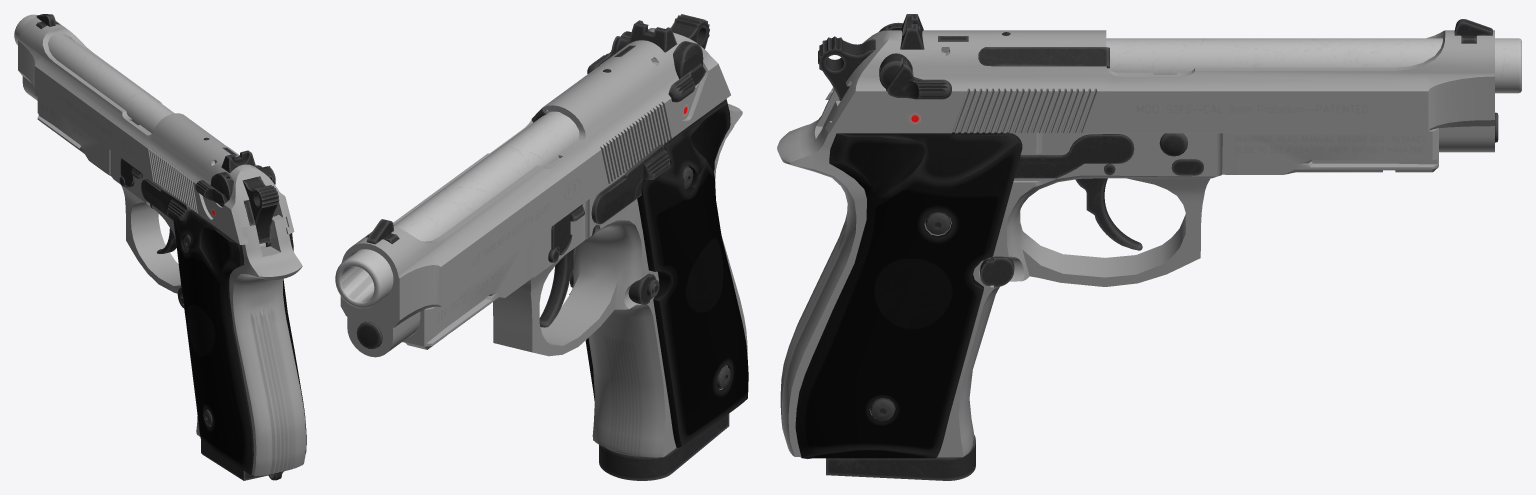
The model's file is beretta_92fs_-_game_ready_-_free.glb.
3 renders of one model, left to right at view 1: azimuth 30°, elevation 25°; view 2: azimuth 150°, elevation 25°; view 3: azimuth 270°, elevation 25°, orthographic. The views are drawn at different scales.
Parts seen in each view (by area): view 1: body.003, receiver.003, Circle.008, Cylinder.054, Hammer.003, Cube.035, Cylinder.058, Magazine.001, Cube.031, Circle.007, Cube.036; view 2: receiver.003, body.003, Circle.008, Cylinder.054, Magazine.001, Cube.035, Cylinder.058, Plane.003, Hammer.003, Cube.031, Cube.036, Cylinder.055 (+2 smaller); view 3: receiver.003, Circle.007, body.003, Cylinder.054, Magazine.001, Cube.039, Cube.033, Hammer.003, Plane.003, Cylinder.059, Cylinder.067.
Part boxes in pixels (left/top/right/bottom): body.003: left=37, top=97, right=305, bottom=476; receiver.003: left=18, top=17, right=294, bottom=244; Circle.008: left=173, top=210, right=253, bottom=474; Cylinder.054: left=14, top=14, right=173, bottom=133; Hammer.003: left=242, top=177, right=279, bottom=248; Cube.035: left=141, top=178, right=190, bottom=220; Cylinder.058: left=195, top=172, right=233, bottom=206; Magazine.001: left=201, top=440, right=292, bottom=480; Cube.031: left=221, top=150, right=255, bottom=172; Circle.007: left=283, top=233, right=306, bottom=453; Cube.036: left=120, top=158, right=142, bottom=187; receiver.003: left=340, top=28, right=730, bottom=357; body.003: left=402, top=104, right=747, bottom=457; Circle.008: left=637, top=99, right=748, bottom=447; Cylinder.054: left=335, top=111, right=579, bottom=308; Magazine.001: left=599, top=413, right=729, bottom=480; Cube.035: left=591, top=144, right=670, bottom=224; Cylinder.058: left=668, top=41, right=706, bottom=102; Plane.003: left=539, top=248, right=574, bottom=327; Hammer.003: left=671, top=14, right=709, bottom=49; Cube.031: left=628, top=20, right=676, bottom=52; Cube.036: left=551, top=204, right=584, bottom=255; Cylinder.055: left=356, top=321, right=382, bottom=348; receiver.003: left=825, top=30, right=1494, bottom=152; Circle.007: left=795, top=132, right=1022, bottom=458; body.003: left=777, top=89, right=1438, bottom=457; Cylinder.054: left=1106, top=38, right=1521, bottom=93; Magazine.001: left=826, top=434, right=975, bottom=480; Cube.039: left=1014, top=134, right=1134, bottom=178; Cube.033: left=978, top=47, right=1109, bottom=68; Hammer.003: left=818, top=36, right=875, bottom=100; Plane.003: left=1075, top=178, right=1142, bottom=250; Cylinder.059: left=886, top=59, right=951, bottom=99; Cylinder.067: left=980, top=256, right=1014, bottom=287.
Bounding box in the file's own units: 65.44 × 223 × 339.
Materials: 1 (1 with a texture image).
